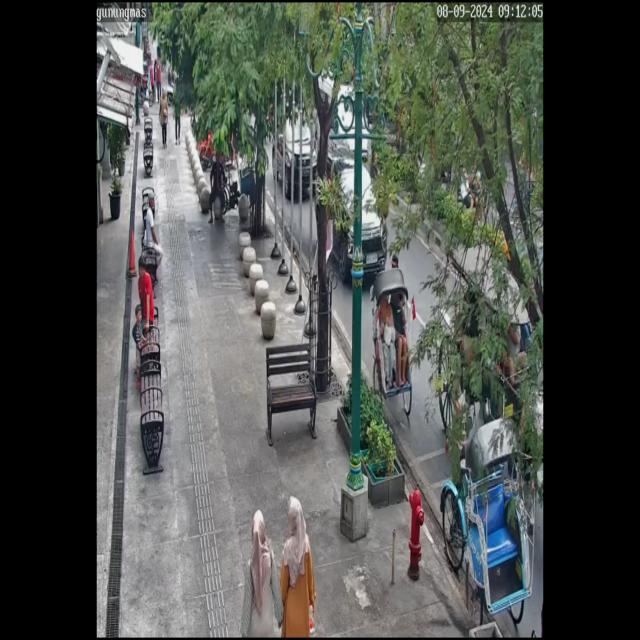Car: (318, 148, 390, 287), (270, 102, 318, 196)
